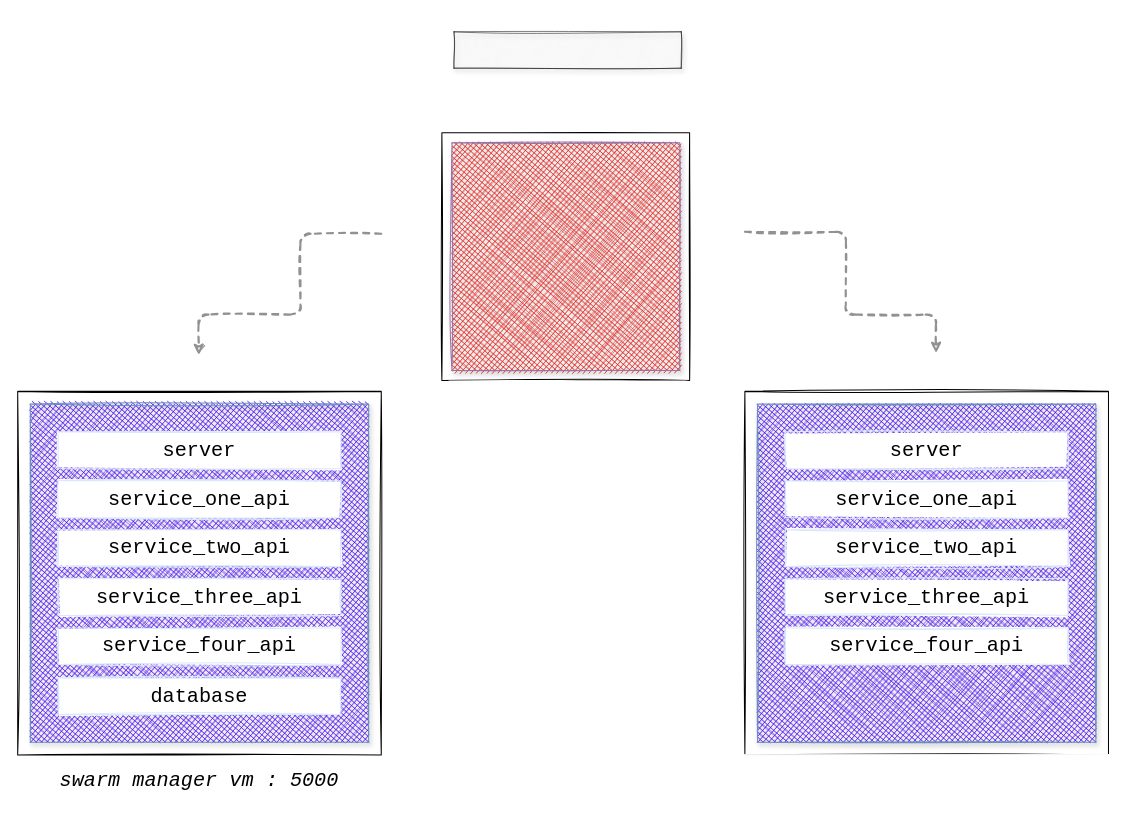
This 1126x830 diagram has some shape labels left out. Here are the shapes that lost their labels. From the top down, the centre of each, then its label:
point (568, 51): INCOMING TRAFFIC
point (567, 412): nginx vm : 80
point (926, 779): swarm worker vm : 5000
